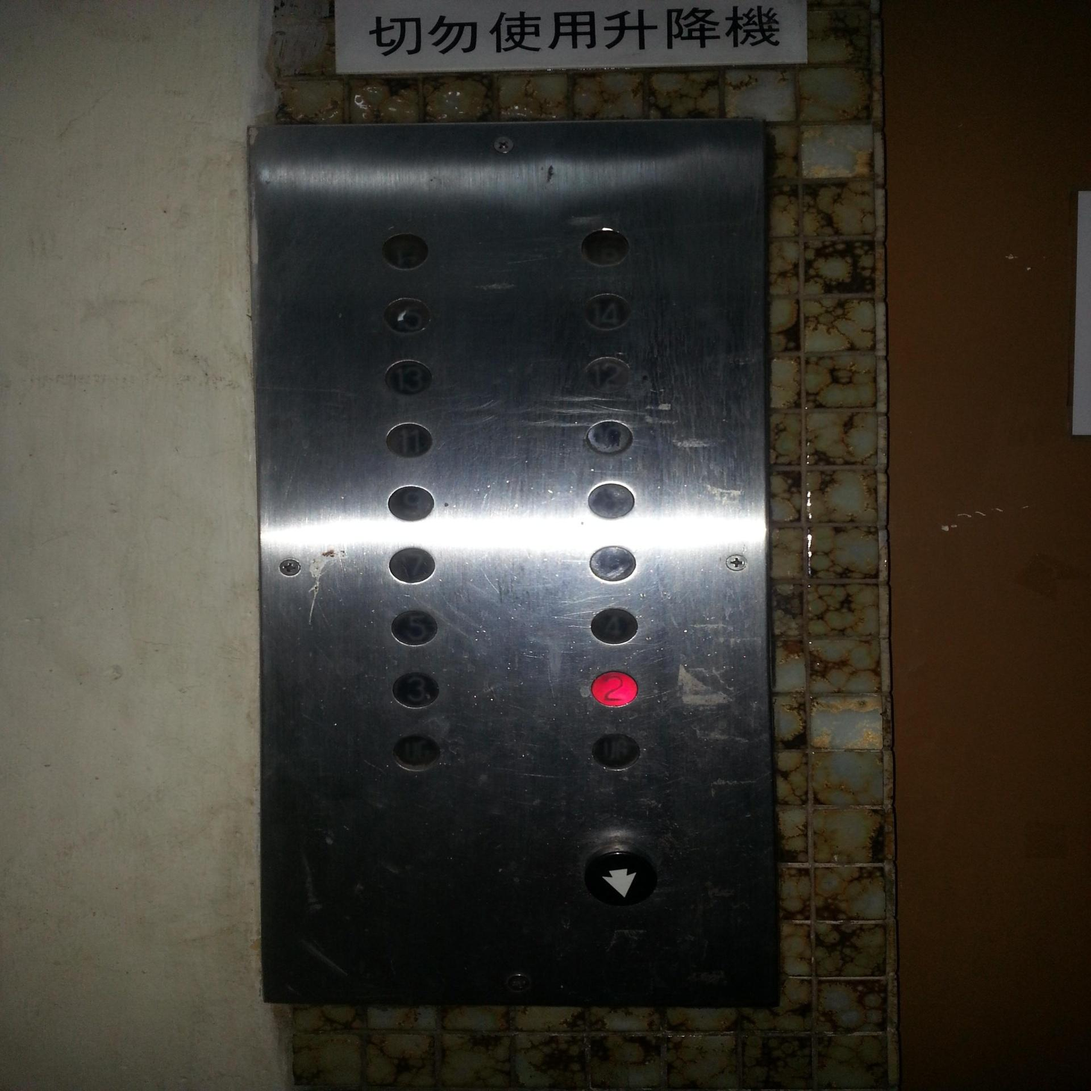11: (382, 419, 434, 461)
12: (580, 354, 634, 394)
13: (380, 357, 434, 400)
14: (579, 290, 633, 330)
16: (577, 226, 633, 268)
2: (588, 667, 639, 709)
3: (388, 669, 442, 710)
4: (588, 604, 640, 646)
5: (389, 606, 440, 647)
7: (386, 544, 437, 584)
9: (385, 482, 436, 524)
blur: (585, 478, 636, 521), (587, 542, 638, 584), (582, 417, 635, 457), (381, 295, 432, 335), (380, 231, 431, 271)
down: (579, 843, 659, 908)
unknown: (588, 728, 642, 772), (389, 731, 442, 773)
